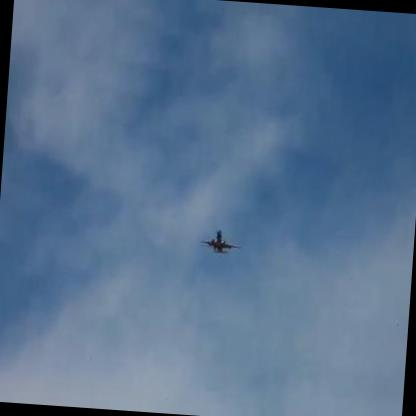plane: (199, 228, 245, 257)
